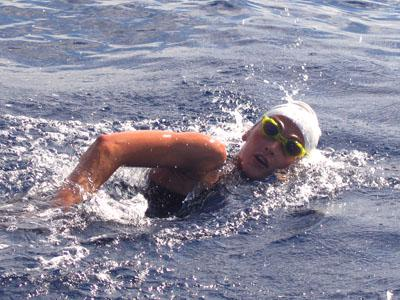human: (53, 99, 324, 216)
